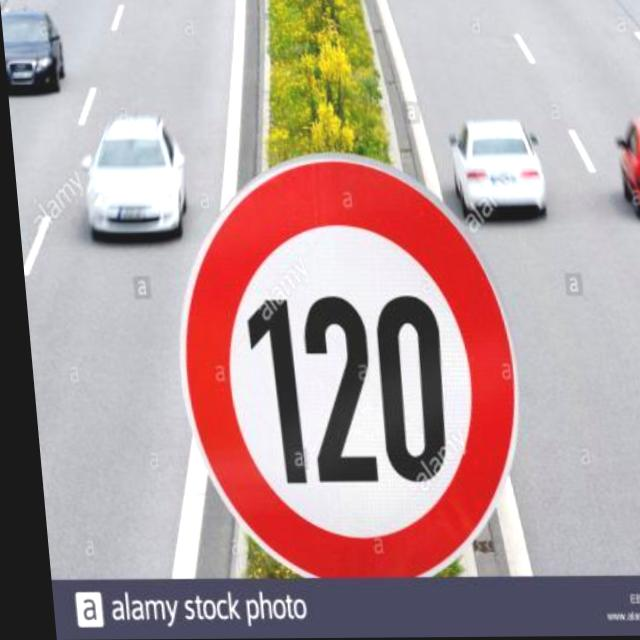limit120: (144, 146, 528, 590)
